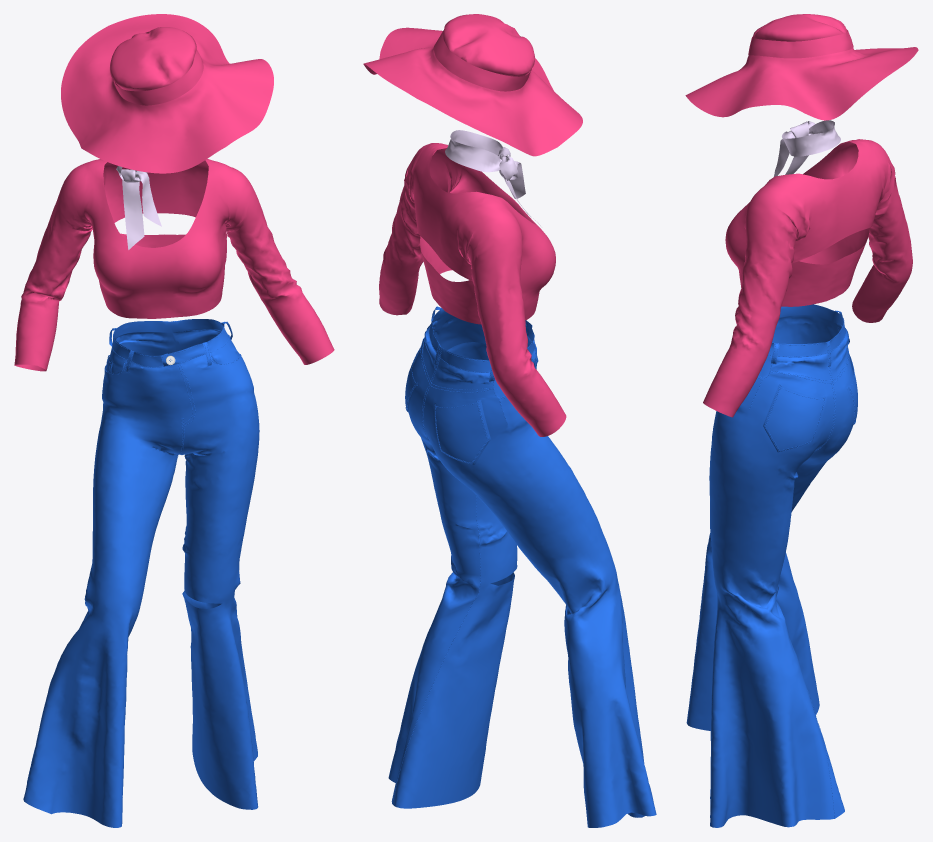
3 renders of one model, left to right at view 1: azimuth 30°, elevation 25°; view 2: azimuth 150°, elevation 25°; view 3: azimuth 270°, elevation 25°, orthographic. The views are drawn at different scales.
Visible parts, largest first — view 1: Object001, Object002, Object003, M-obj1, M-FBX1; view 2: Object001, Object002, Object003, M-obj1, M-FBX1; view 3: Object001, Object002, Object003, M-obj1, M-FBX1.
Part boxes in pixels (x1,y1,x2,y2): Object001: (23, 319, 259, 827); Object002: (14, 159, 334, 371); Object003: (61, 14, 273, 173); M-obj1: (116, 166, 161, 249); M-FBX1: (104, 321, 241, 527); Object001: (388, 306, 656, 827); Object002: (379, 143, 566, 436); Object003: (363, 14, 582, 156); M-obj1: (445, 130, 540, 225); M-FBX1: (392, 306, 538, 803); Object001: (686, 304, 857, 827); Object002: (703, 139, 912, 417); Object003: (685, 14, 918, 120); M-obj1: (774, 120, 840, 176); M-FBX1: (749, 310, 855, 818).
Bounding box in the file's own units: 0.6918 × 1.76 × 0.4733.
